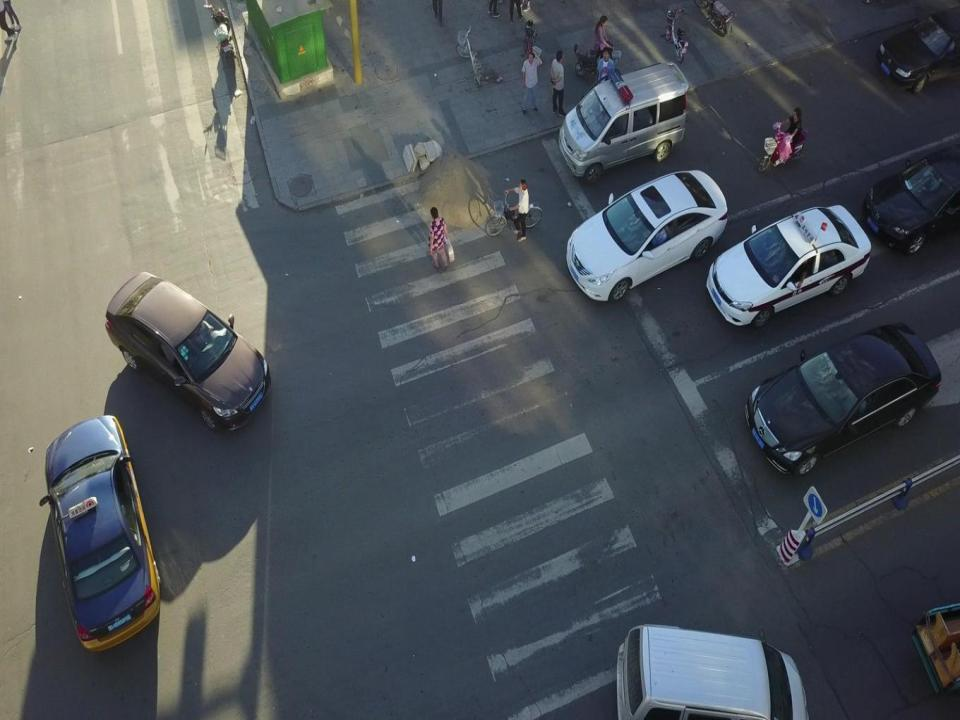car: (743, 319, 943, 476), (36, 414, 162, 652), (103, 271, 271, 433), (564, 170, 728, 302), (704, 204, 872, 329), (865, 145, 960, 253), (879, 10, 960, 93)
van: (615, 623, 812, 720), (558, 62, 690, 182)
